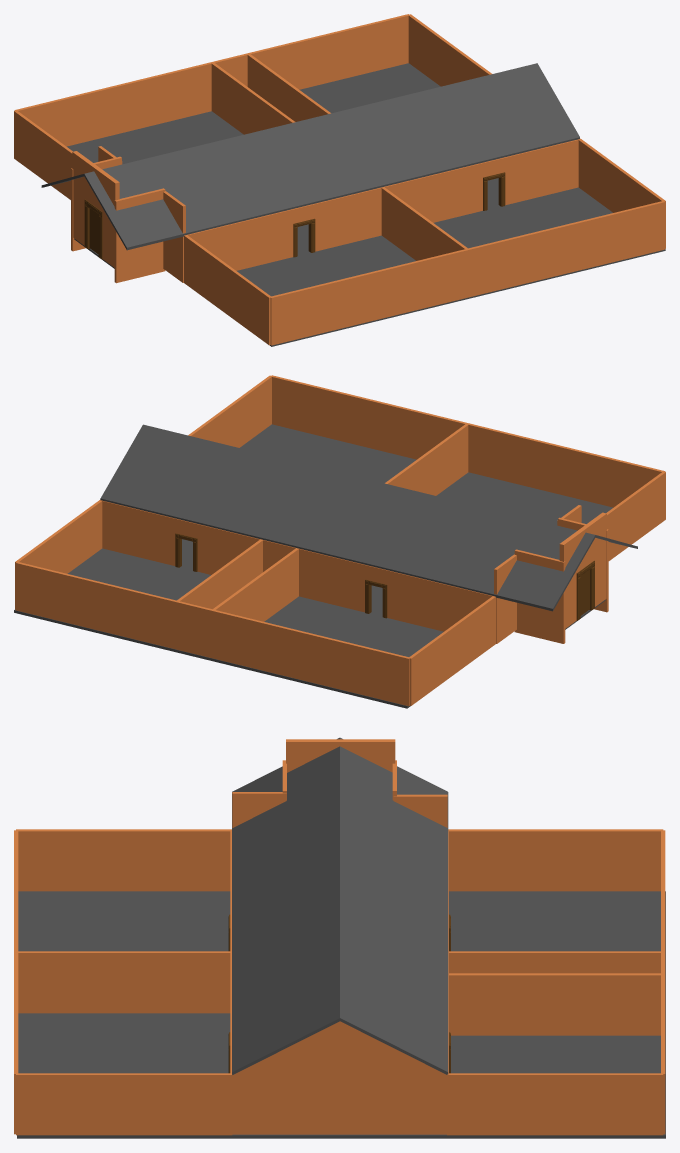
Rendered from dungeon.fbx.
The picture shows the model from 3 angles, top to bottom: view 1: azimuth 30°, elevation 25°; view 2: azimuth 150°, elevation 25°; view 3: azimuth 270°, elevation 25°; orthographic projection. The views are drawn at different scales.
Visible parts, largest first — view 1: Ceiling - Main Chamber, Floor, wall.001, wall, wall.010, wall.003, wall.002, wall.009, wall.006, wall.004, wall.005, wall.011 (+8 smaller); view 2: Ceiling - Main Chamber, Floor, wall.009, wall.010, wall.001, wall, wall.008, wall.007, wall.013, wall.011, wall.012, wall.005 (+8 smaller); view 3: Ceiling - Main Chamber, Floor, wall.014, wall.004, wall.011, wall.006, wall.005, wall.013, wall.019, wall.012, Wall - door, wall.015 (+5 smaller).
Boxes of the visible parts, left/top/right/bottom form: Ceiling - Main Chamber: left=41, top=63, right=579, bottom=250; Floor: left=67, top=63, right=665, bottom=346; wall.001: left=270, top=249, right=468, bottom=345; wall: left=467, top=201, right=665, bottom=297; wall.010: left=14, top=62, right=212, bottom=146; wall.003: left=186, top=187, right=381, bottom=270; wall.002: left=383, top=139, right=578, bottom=222; wall.009: left=212, top=14, right=409, bottom=89; wall.006: left=184, top=235, right=270, bottom=345; wall.004: left=578, top=138, right=665, bottom=248; wall.005: left=381, top=187, right=468, bottom=260; wall.011: left=408, top=14, right=491, bottom=86; Ceiling - Main Chamber: left=100, top=424, right=637, bottom=611; Floor: left=14, top=424, right=612, bottom=708; wall.009: left=15, top=561, right=213, bottom=658; wall.010: left=212, top=609, right=409, bottom=706; wall.001: left=467, top=423, right=665, bottom=507; wall: left=270, top=375, right=468, bottom=459; wall.008: left=298, top=548, right=492, bottom=631; wall.007: left=101, top=500, right=297, bottom=574; wall.013: left=409, top=596, right=496, bottom=705; wall.011: left=15, top=500, right=102, bottom=609; wall.012: left=213, top=548, right=298, bottom=621; wall.005: left=385, top=424, right=468, bottom=495; Ceiling - Main Chamber: left=232, top=737, right=448, bottom=1074; Floor: left=17, top=891, right=665, bottom=1138; wall.014: left=232, top=1021, right=446, bottom=1134; wall.004: left=16, top=1073, right=232, bottom=1135; wall.011: left=447, top=1073, right=663, bottom=1135; wall.006: left=16, top=829, right=231, bottom=891; wall.005: left=18, top=951, right=230, bottom=1013; wall.013: left=448, top=829, right=663, bottom=891; wall.019: left=449, top=973, right=660, bottom=1035; wall.012: left=449, top=951, right=660, bottom=973; Wall - door: left=286, top=739, right=395, bottom=772; wall.015: left=232, top=792, right=286, bottom=827.
Bounding box in the file's own units: 3688 × 766 × 3617.
